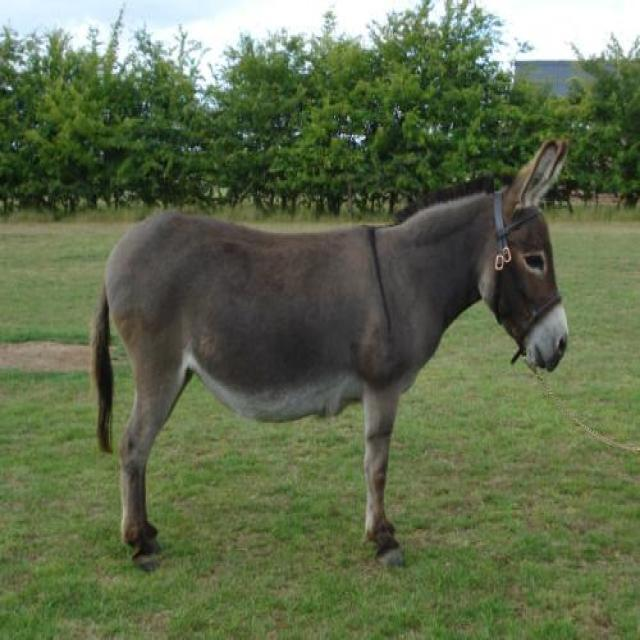Donkey: (93, 135, 572, 572)
